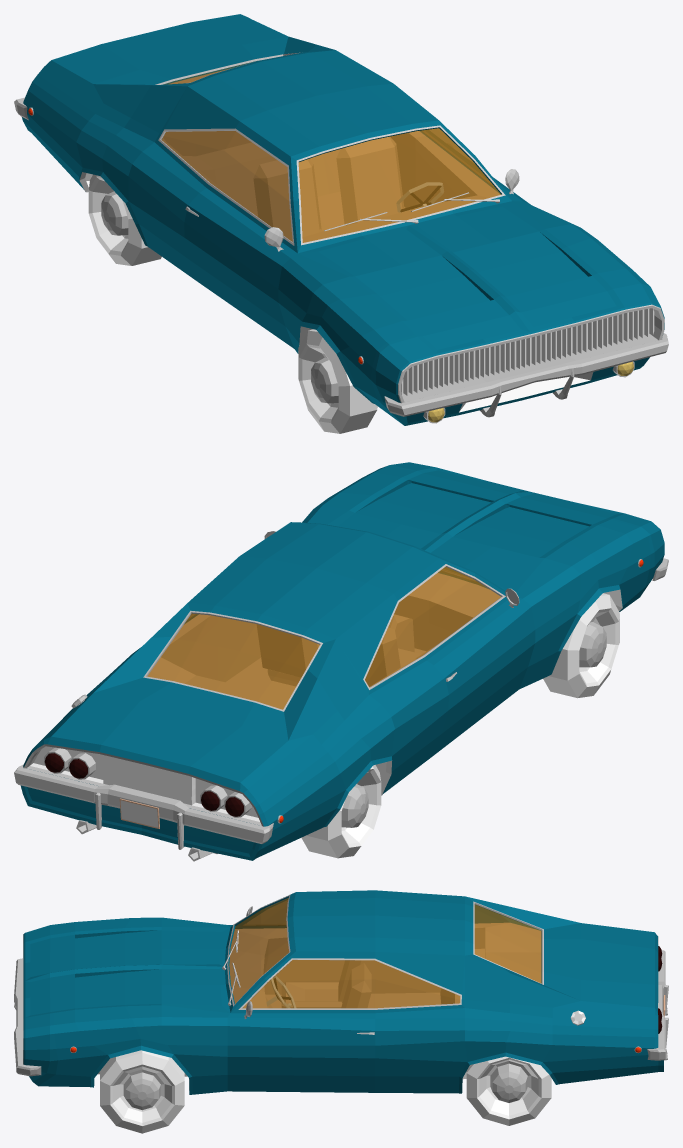
File: MuscleCar_04.FBX
The picture shows the model from 3 angles, top to bottom: view 1: azimuth 30°, elevation 25°; view 2: azimuth 150°, elevation 25°; view 3: azimuth 270°, elevation 25°; orthographic projection. The views are drawn at different scales.
Visible parts, largest first — view 1: MuscleCar_04, interieur, grill, wheel_f_r, bumper_f, wheel_b_r; view 2: MuscleCar_04, interieur, bumper_b, wheel_f_r, wheel_b_r, tailLights, lights, licensePlate_b; view 3: MuscleCar_04, interieur, wheel_f_l, wheel_b_l, bumper_f, bumper_b.
Part boxes in pixels (x1=…): MuscleCar_04: x1=22, y1=14, x2=664, y2=425; interieur: x1=161, y1=61, x2=500, y2=242; grill: x1=401, y1=308, x2=654, y2=396; wheel_f_r: x1=298, y1=329, x2=377, y2=433; bumper_f: x1=384, y1=333, x2=668, y2=417; wheel_b_r: x1=88, y1=174, x2=161, y2=265; MuscleCar_04: x1=20, y1=462, x2=664, y2=860; interieur: x1=147, y1=567, x2=500, y2=709; bumper_b: x1=14, y1=764, x2=273, y2=849; wheel_f_r: x1=543, y1=593, x2=619, y2=698; wheel_b_r: x1=301, y1=765, x2=381, y2=858; tailLights: x1=44, y1=753, x2=243, y2=816; lights: x1=44, y1=559, x2=642, y2=823; licensePlate_b: x1=119, y1=798, x2=159, y2=828; MuscleCar_04: x1=23, y1=890, x2=663, y2=1094; interieur: x1=229, y1=898, x2=541, y2=1008; wheel_f_l: x1=100, y1=1050, x2=184, y2=1133; wheel_b_l: x1=466, y1=1056, x2=551, y2=1125; bumper_f: x1=14, y1=958, x2=41, y2=1076; bumper_b: x1=647, y1=950, x2=668, y2=1060.
Bounding box in the file's own units: 25.01 × 60.16 × 16.51.
